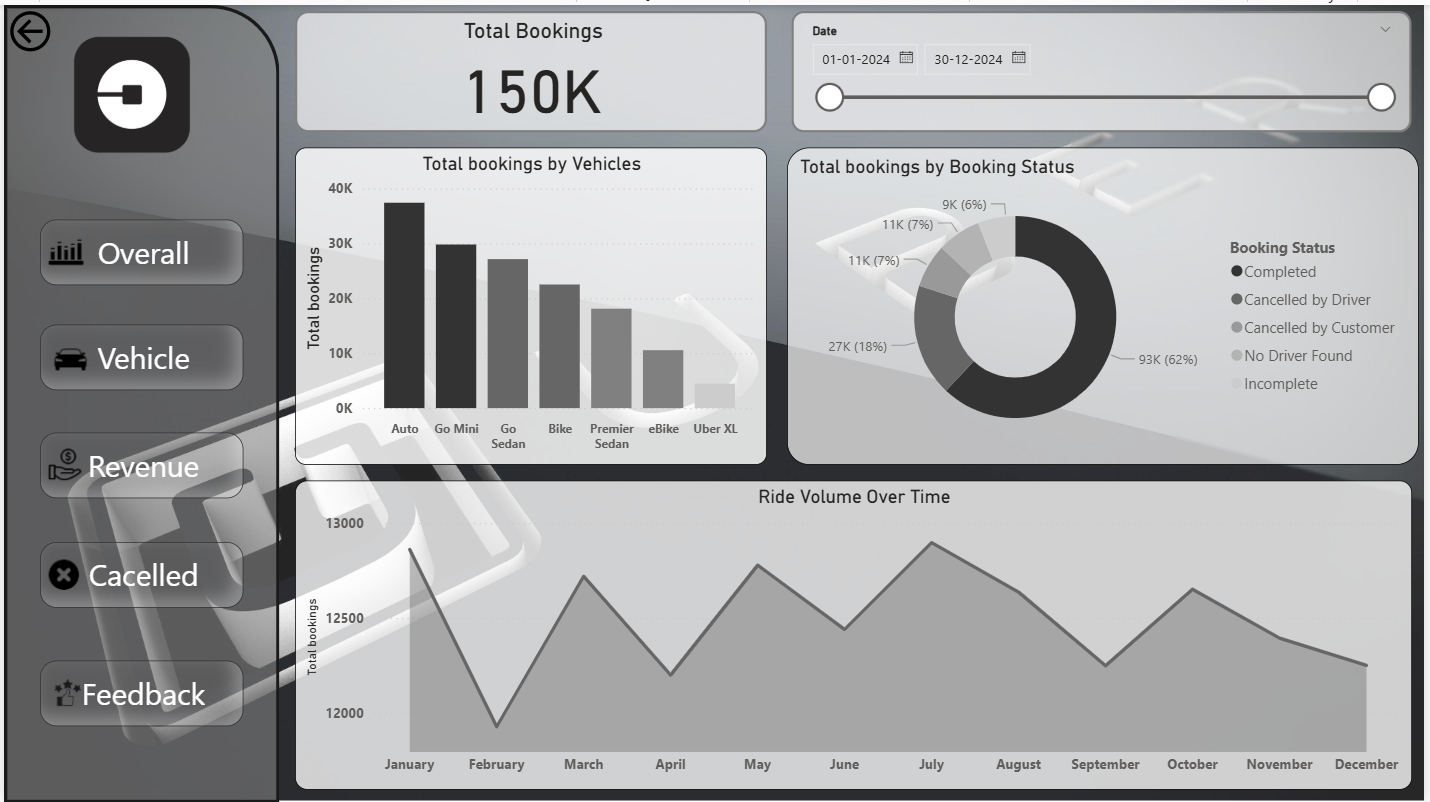

Layout of this report page (visuals, bound fields, positions):
{"tool":"powerbi","page":{"name":"Home","canvas":[1280,720],"ordinal":1},"visuals":[{"type":"shape","box":[0,0,248.3,719.2],"z":0},{"type":"image","box":[0,16.7,230.2,128.7],"z":1000},{"type":"actionButton","box":[31.8,193.8,183.2,59.1],"z":2000},{"type":"actionButton","box":[31.8,484.5,183.2,59.1],"z":3000},{"type":"actionButton","box":[31.8,287.7,183.2,59.1],"z":4000},{"type":"actionButton","box":[31.8,384.6,183.2,59.1],"z":5000},{"type":"actionButton","box":[31.8,590.5,183.2,59.1],"z":6000},{"type":"card","title":"Total Bookings","fields":{"Values":["ncr_ride_bookings.Total bookings"]},"box":[262,6.1,425.5,109],"z":7000},{"type":"slicer","fields":{"Values":["ncr_ride_bookings.Date"]},"box":[710.2,6.1,558.7,109],"z":8000},{"type":"areaChart","title":"Ride Volume Over Time","fields":{"Y":["ncr_ride_bookings.Total bookings"],"Category":["ncr_ride_bookings.Date.Variation.Date Hierarchy.Month"]},"box":[262,428.5,1006.9,278.6],"z":9000},{"type":"donutChart","fields":{"Category":["ncr_ride_bookings.Booking Status"],"Y":["ncr_ride_bookings.Total bookings"]},"box":[705.6,128.7,569.3,286.2],"z":10000},{"type":"clusteredColumnChart","title":"Total bookings by Vehicles","fields":{"Y":["ncr_ride_bookings.Total bookings"],"Category":["ncr_ride_bookings.Vehicle Type"]},"box":[262,128.7,425.5,286.2],"z":11000},{"type":"actionButton","box":[0,0,123.8,47.4],"z":12000}]}

Visuals, with their boxes in screenshot pixels (x1, y1, x2, y2), scaled from the page's 1280x720 canvas onto the 1430x802 screenshot:
shape: 0/0/277/801
image: 0/19/257/162
actionButton: 36/216/240/282
actionButton: 36/540/240/606
actionButton: 36/320/240/386
actionButton: 36/428/240/494
actionButton: 36/658/240/724
"Total Bookings" card: 293/7/768/128
slicer - ncr_ride_bookings.Date: 793/7/1418/128
"Ride Volume Over Time" areaChart: 293/477/1418/788
donutChart - ncr_ride_bookings.Booking Status x ncr_ride_bookings.Total bookings: 788/143/1424/462
"Total bookings by Vehicles" clusteredColumnChart: 293/143/768/462
actionButton: 0/0/138/53
